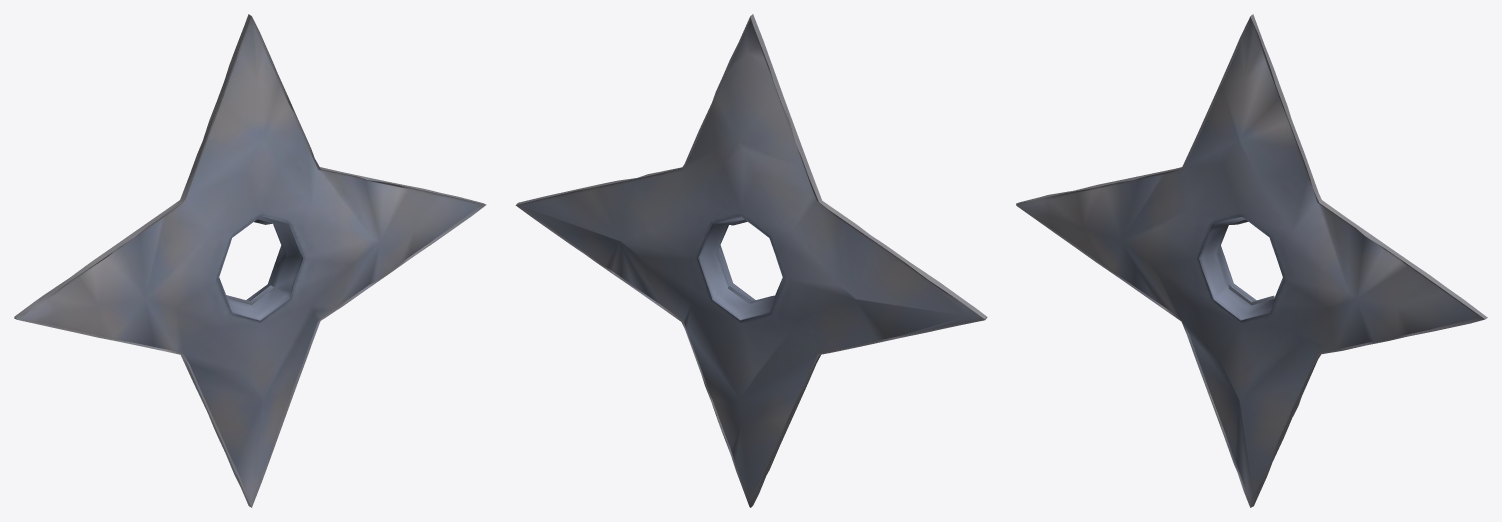
3 renders of one model, left to right at view 1: azimuth 30°, elevation 25°; view 2: azimuth 150°, elevation 25°; view 3: azimuth 330°, elevation 25°, orthographic.
Visible parts, largest first — view 1: geometry_0; view 2: geometry_0; view 3: geometry_0.
Boxes of the visible parts, x1,y1,x2,y2 form: geometry_0: [14, 14, 486, 507]; geometry_0: [515, 14, 987, 507]; geometry_0: [1016, 14, 1487, 507].
Size of the model in its own units: 1 by 1 by 0.0943.
Materials: 1 (1 with a texture image).
